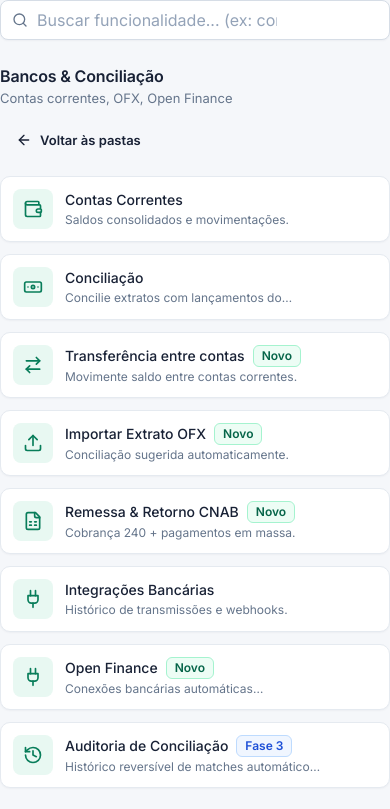
as cinco pastas do Financeiro, do menu à estante › a pasta aberta mora na URL, e voltar às pastas a tira de lá
Click the button "Voltar às pastas" at (78, 140), box [0,120,157,160]
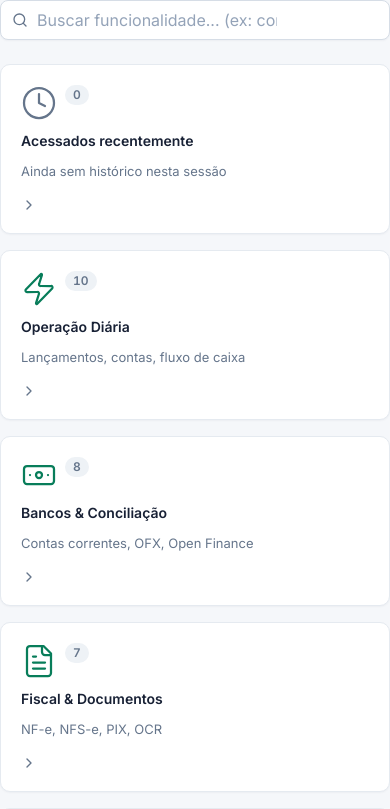
Now the button "Voltar às pastas" is gone
